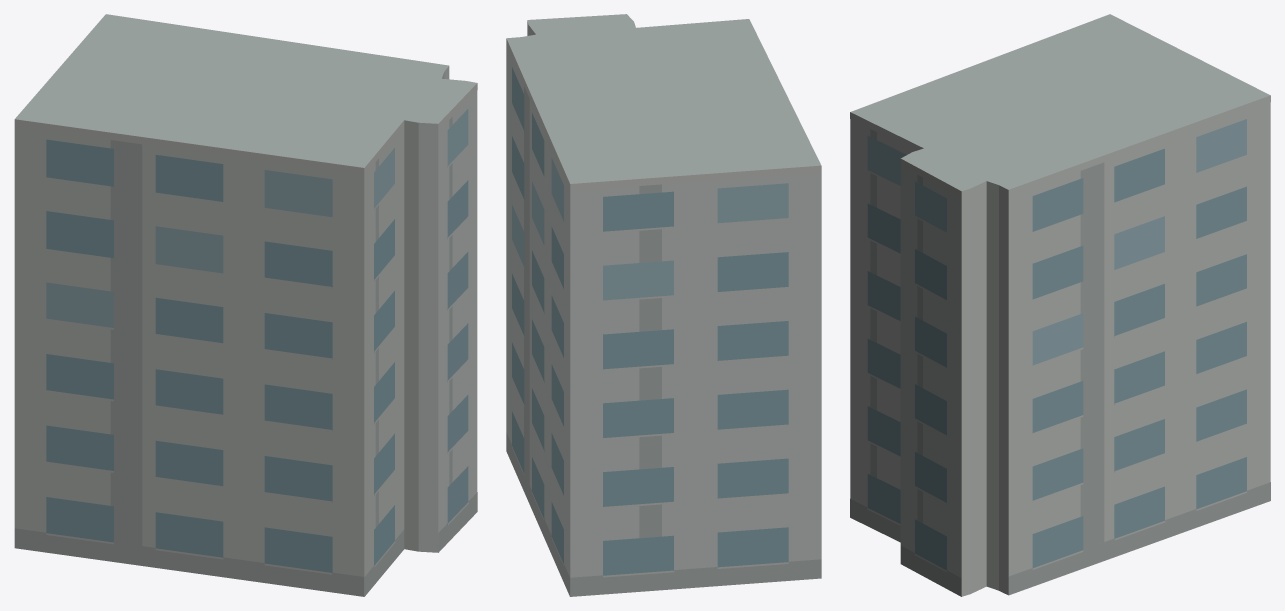
The model's file is survey-upis-32889221.glb.
3 views of the same model, side by side, from view 1: azimuth 30°, elevation 25°; view 2: azimuth 150°, elevation 25°; view 3: azimuth 270°, elevation 25° (orthographic). The views are drawn at different scales.
Parts seen in each view (by area): view 1: survey-upis-32889221.tmp; view 2: survey-upis-32889221.tmp; view 3: survey-upis-32889221.tmp.
Boxes of the visible parts, bbox=[...] form: survey-upis-32889221.tmp: bbox=[14, 14, 477, 596]; survey-upis-32889221.tmp: bbox=[506, 14, 821, 596]; survey-upis-32889221.tmp: bbox=[850, 14, 1270, 596].
Bounding box in the file's own units: 13.32 × 14.2 × 13.35.
